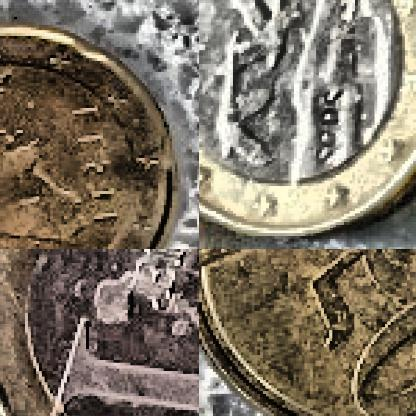coin: (199, 0, 415, 241), (0, 22, 180, 248), (199, 249, 415, 415), (0, 249, 198, 415)
